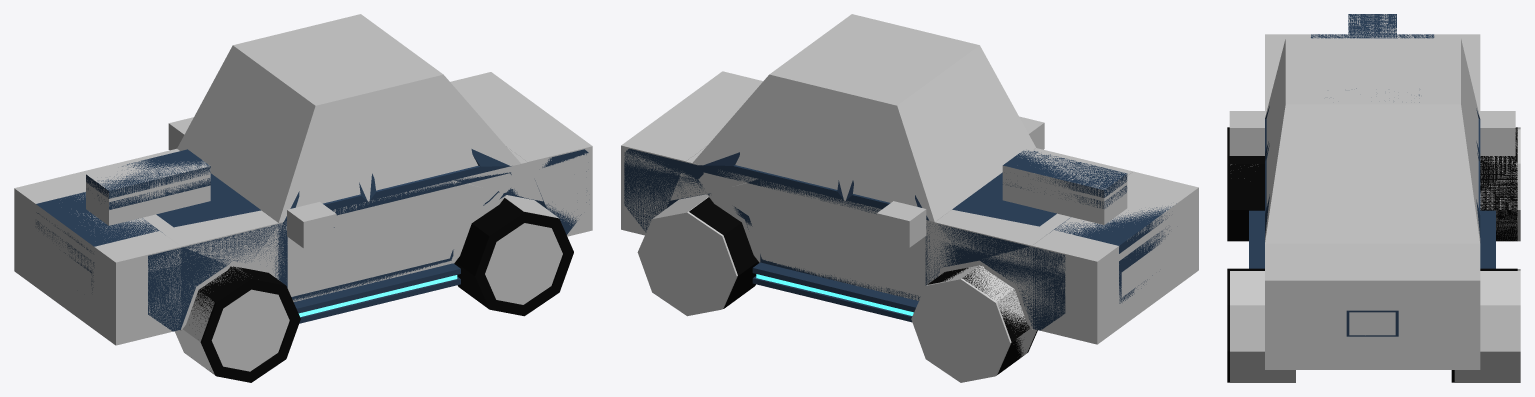
The model's file is SM_Car_03.fbx.
The picture shows the model from 3 angles, left to right: view 1: azimuth 30°, elevation 25°; view 2: azimuth 150°, elevation 25°; view 3: azimuth 270°, elevation 25°; orthographic projection. The views are drawn at different scales.
Visible parts, largest first — view 1: SM_Car_03_ConvexHulls, SM_Car_03; view 2: SM_Car_03_ConvexHulls, SM_Car_03; view 3: SM_Car_03_ConvexHulls, SM_Car_03.
Boxes of the visible parts, bbox=[...] form: SM_Car_03_ConvexHulls: bbox=[14, 14, 592, 374]; SM_Car_03: bbox=[35, 149, 588, 382]; SM_Car_03_ConvexHulls: bbox=[621, 14, 1198, 382]; SM_Car_03: bbox=[624, 148, 1176, 374]; SM_Car_03_ConvexHulls: bbox=[1229, 14, 1520, 382]; SM_Car_03: bbox=[1227, 14, 1517, 382].
Bounding box in the file's own units: 432 × 217 × 203.
Materials: 2 (1 with a texture image).
